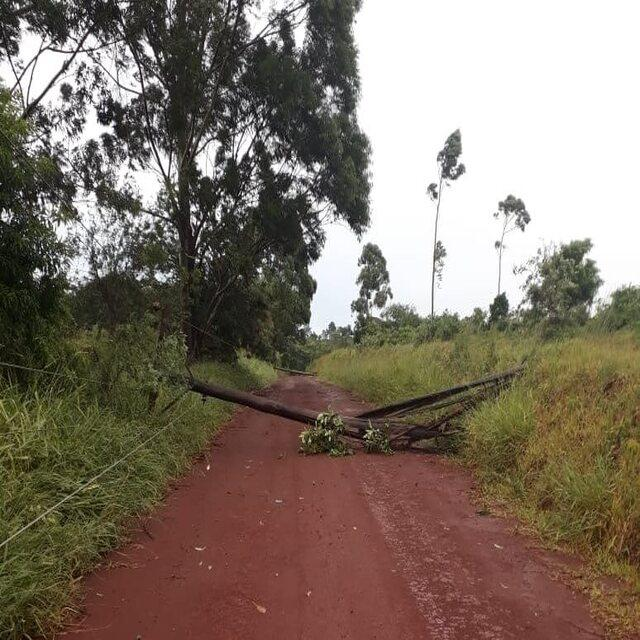Inclined Pole: (144, 300, 440, 451)
